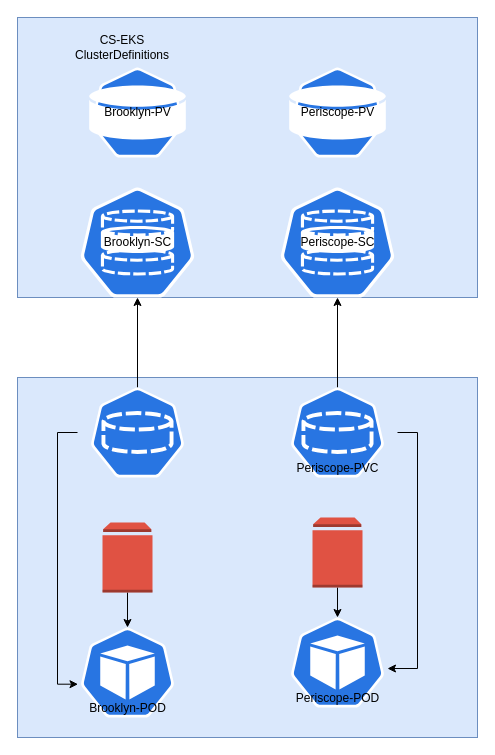
Image size: 495x755. Some labels were removed from this diagram. The shapes that lost their labels are listed below. From the top down, each one's box as (x1, y1, x2, y2) in pixels, then its label:
(76, 386, 198, 478): Brooklyn-PVC
(102, 522, 152, 592): Brooklyn-V
(312, 516, 362, 588): Periscope-V
